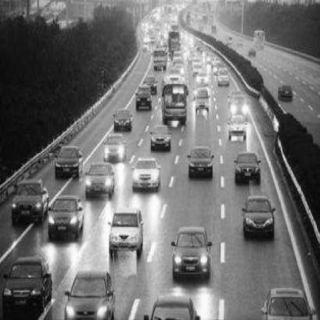other: (127, 181, 169, 221), (40, 238, 83, 260), (226, 97, 250, 117)
